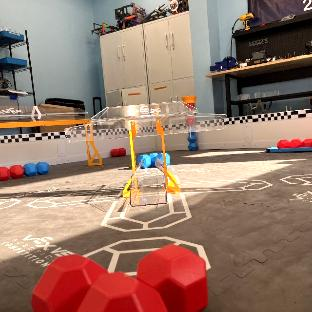V5_BLUE: (139, 153, 169, 168), (23, 162, 49, 176), (189, 129, 196, 150)
V5_RED: (32, 244, 206, 312), (277, 138, 312, 148), (0, 166, 23, 179), (111, 148, 126, 156)
